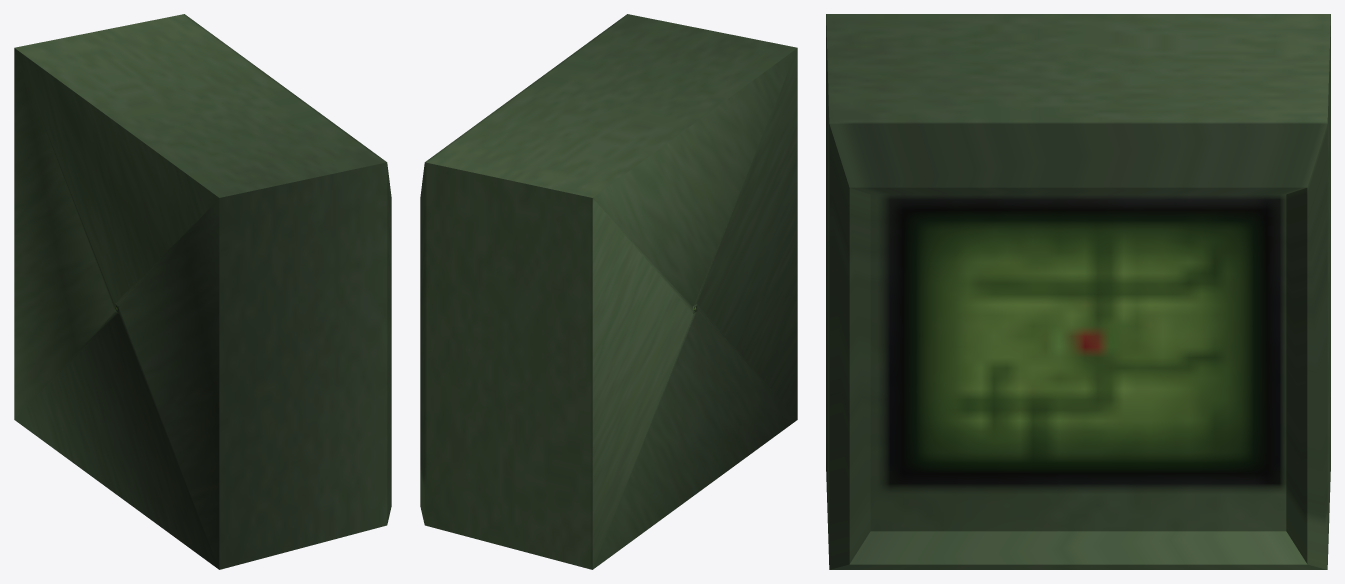
File: GPSdayZ.fbx
3 views of the same model, side by side, from view 1: azimuth 30°, elevation 25°; view 2: azimuth 150°, elevation 25°; view 3: azimuth 270°, elevation 25° (orthographic). The views are drawn at different scales.
Parts seen in each view (by area): view 1: Cube; view 2: Cube; view 3: Cube.
Boxes of the visible parts, x1,y1,x2,y2 form: Cube: [14, 14, 391, 569]; Cube: [420, 14, 797, 569]; Cube: [826, 14, 1330, 569].
Bounding box in the file's own units: 4.66 × 9.12 × 9.12.
Materials: 1 (1 with a texture image).
